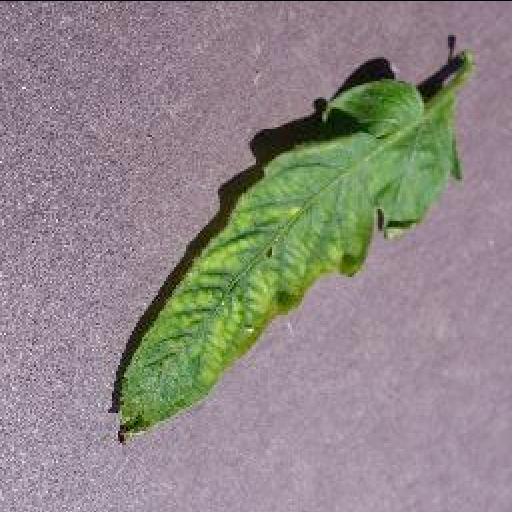disease_tomato: (109, 77, 463, 447)
